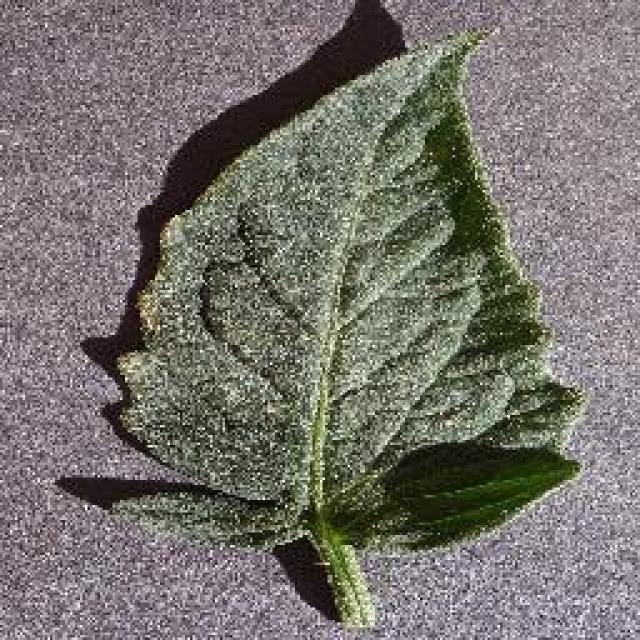Healthy: (70, 2, 605, 640)
